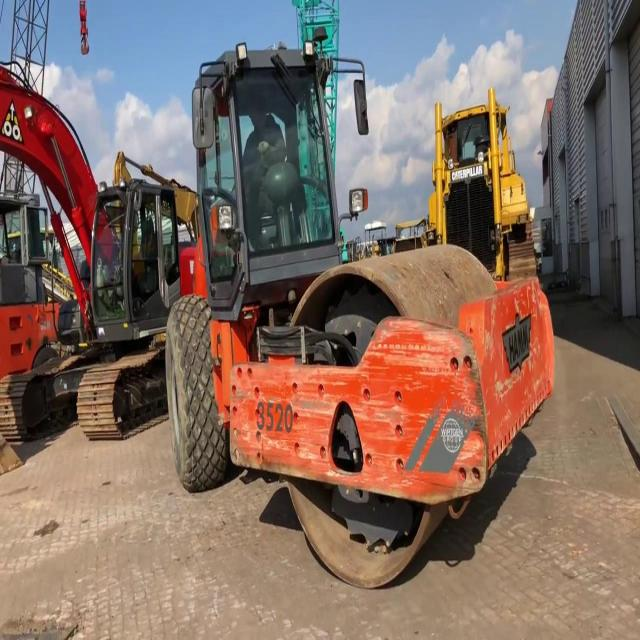Excavator: (0, 74, 168, 443)
Roller: (168, 44, 552, 584)
